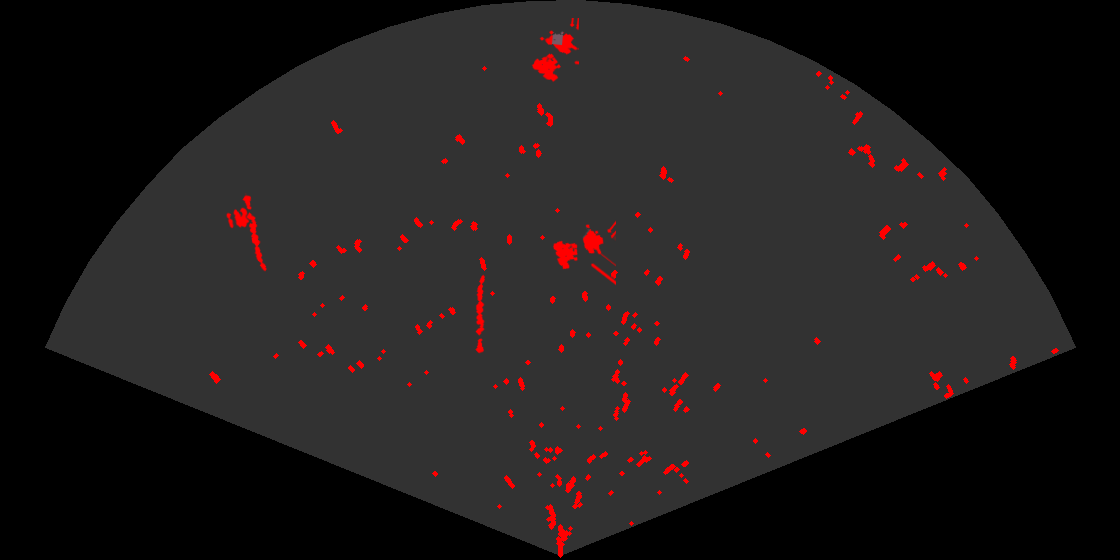ball: (225, 206, 252, 230)
cage: (551, 219, 616, 287), (530, 18, 579, 84)
chain: (241, 193, 268, 273), (474, 274, 486, 354)
